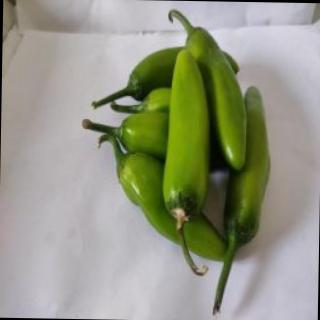Cabai Hijau: (205, 84, 274, 319), (158, 47, 217, 279)
